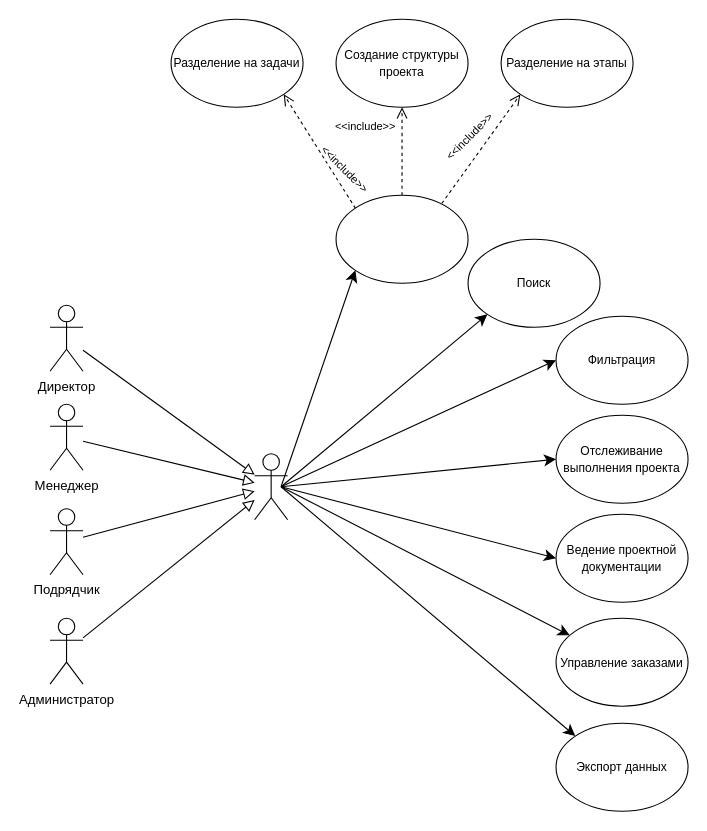
This 707x831 diagram has some shape labels left out. The box of each missing label's shape, as (x1, y1, x2, y2) in pixels:
Создание проекта: (335, 194, 468, 283)
Сотрудник: (254, 453, 288, 520)
